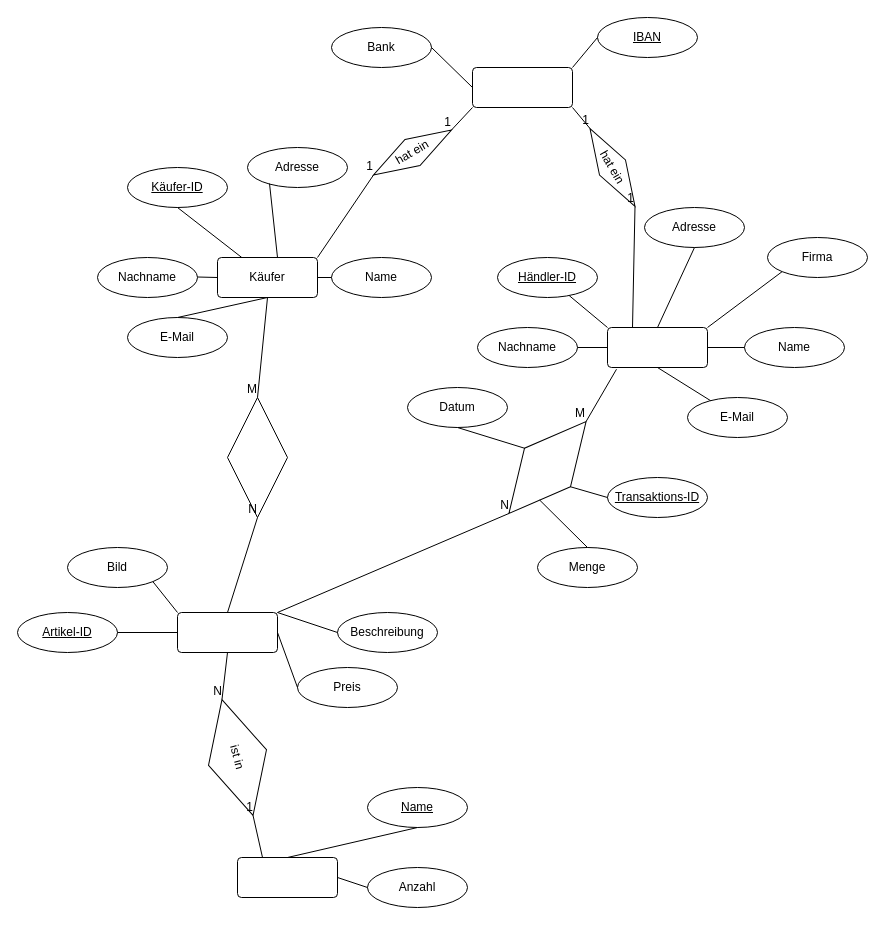
The diagram is 885 pixels wide and 925 high, and some of its shapes have lost their labels. Here are the shapes that lost their labels. From the top down, the centre of each, then its label:
At pixel 522 87: "Konto".
At pixel 657 347: "Händler".
At pixel 257 457: "verkauft".
At pixel 547 467: "kauft".
At pixel 227 632: "Produkt".
At pixel 287 877: "Katgorie".
